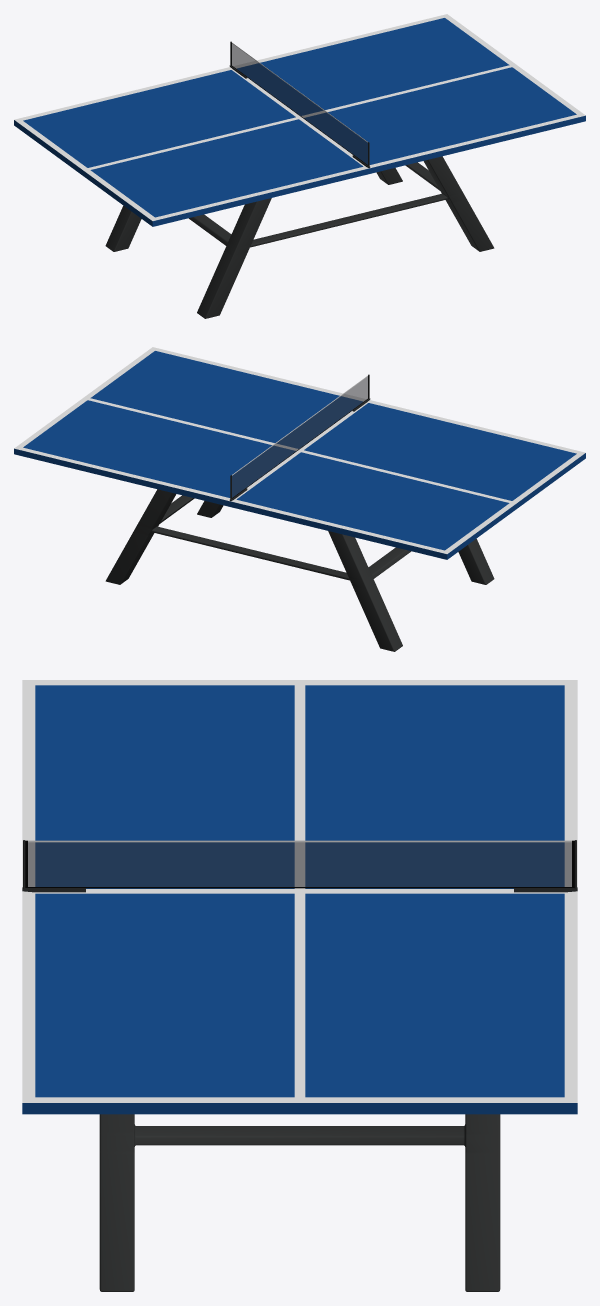
File: table-tennis.glb
3 renders of one model, top to bottom at view 1: azimuth 30°, elevation 25°; view 2: azimuth 150°, elevation 25°; view 3: azimuth 270°, elevation 25°, orthographic. The views are drawn at different scales.
Visible parts, largest first — view 1: Object_4, Object_7, Object_5, net; view 2: Object_4, Object_7, Object_5, net; view 3: Object_4, Object_5, net, Object_7, Object_14.
Boxes of the visible parts, <box> form: Object_4: <box>14,18,585,226</box>; Object_7: <box>105,41,494,318</box>; Object_5: <box>14,14,585,220</box>; net: <box>232,43,367,164</box>; Object_4: <box>14,351,585,559</box>; Object_7: <box>105,374,494,651</box>; Object_5: <box>14,347,585,553</box>; net: <box>232,376,367,497</box>; Object_4: <box>22,685,577,1114</box>; Object_5: <box>22,680,577,1102</box>; net: <box>28,842,571,886</box>; Object_7: <box>22,840,577,1291</box>; Object_14: <box>25,840,574,888</box>.
Size of the model in its own units: 2.74 by 0.938 by 1.52.
